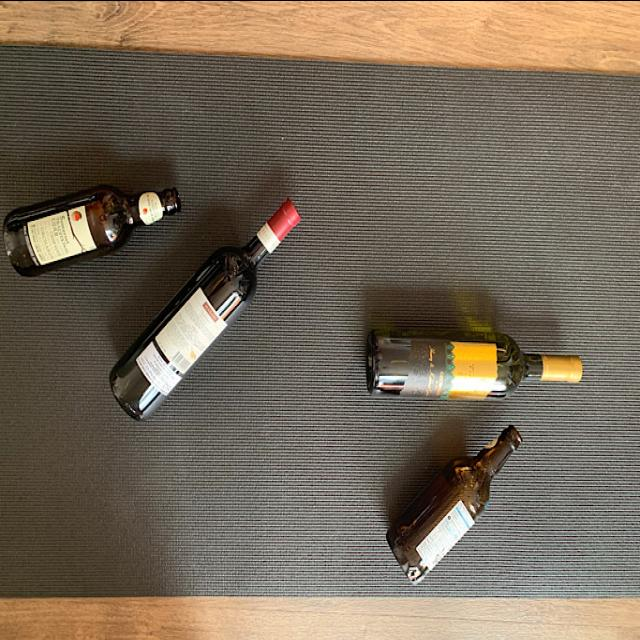litter: (106, 192, 306, 422), (382, 418, 522, 588), (4, 179, 188, 280), (363, 324, 583, 405)
